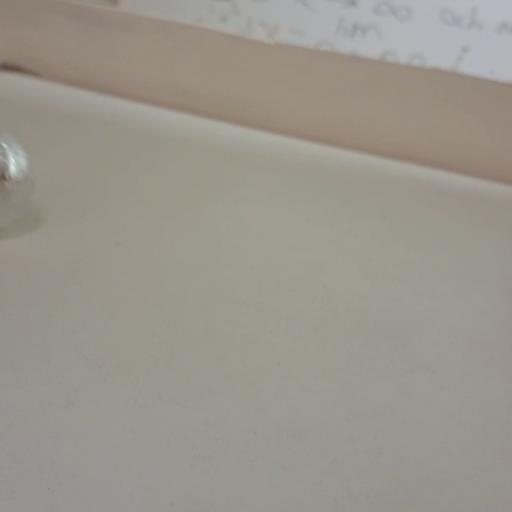alive: (0, 135, 31, 233)
